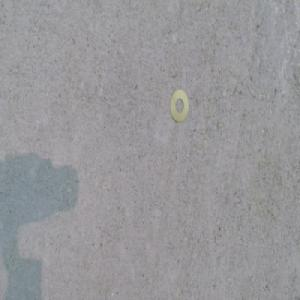Washer: (170, 89, 190, 121)
